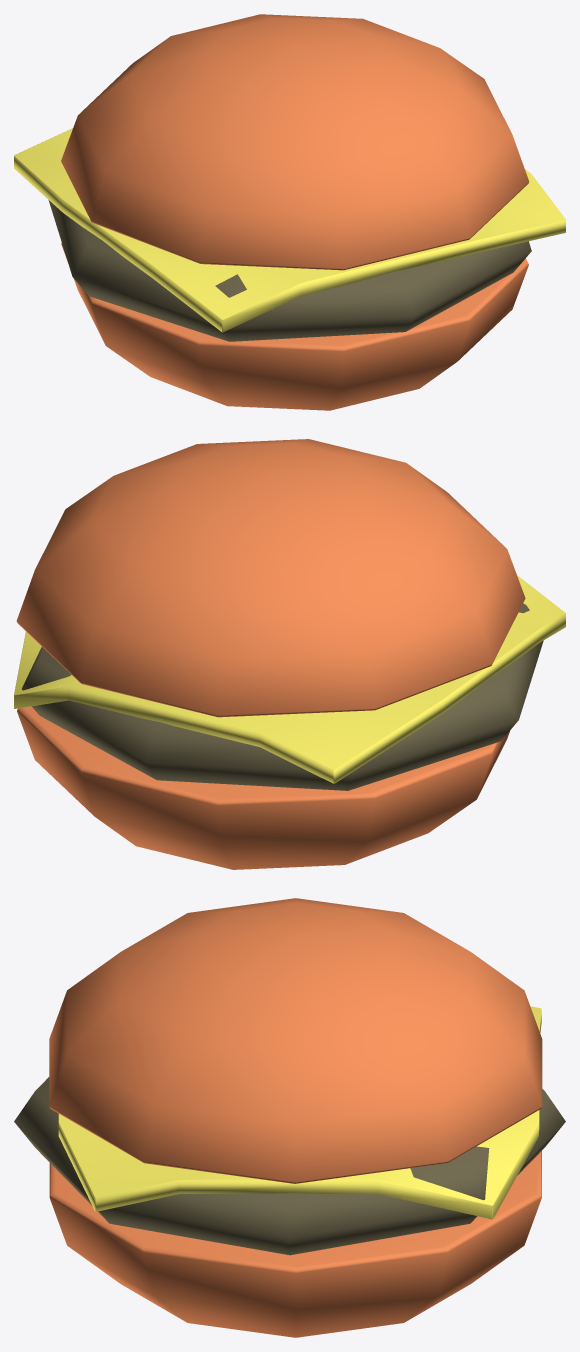
File: SM_Burger_1.fbx
3 renders of one model, top to bottom at view 1: azimuth 30°, elevation 25°; view 2: azimuth 150°, elevation 25°; view 3: azimuth 270°, elevation 25°, orthographic. The views are drawn at different scales.
Parts seen in each view (by area): view 1: SM_Burger_1; view 2: SM_Burger_1; view 3: SM_Burger_1.
Boxes of the visible parts, left/top/right/bottom form: SM_Burger_1: left=14, top=14, right=565, bottom=410; SM_Burger_1: left=14, top=439, right=565, bottom=869; SM_Burger_1: left=14, top=898, right=565, bottom=1337.
Bounding box in the file's own units: 12.36 × 12.36 × 9.06.
